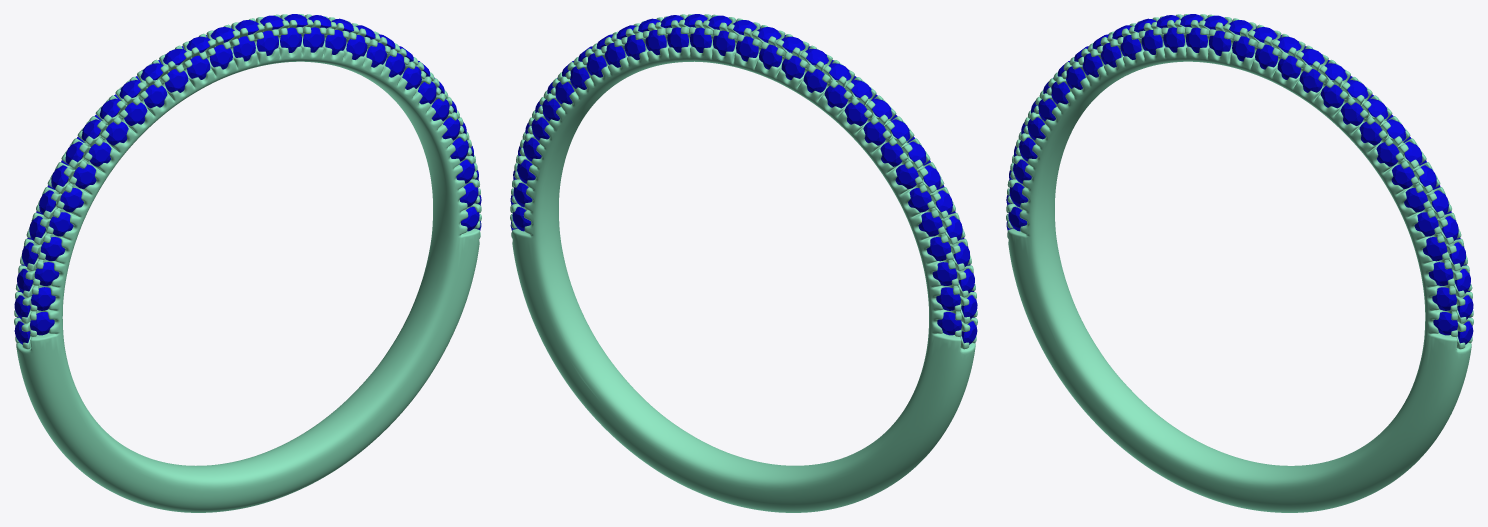
The picture shows the model from 3 angles, left to right: view 1: azimuth 30°, elevation 25°; view 2: azimuth 150°, elevation 25°; view 3: azimuth 330°, elevation 25°; orthographic projection.
Visible parts, largest first — view 1: Metal03; view 2: Metal03; view 3: Metal03.
Boxes of the visible parts, x1,y1,x2,y2 form: Metal03: (14, 14, 481, 512); Metal03: (510, 14, 977, 512); Metal03: (1006, 14, 1473, 512).
Size of the model in its own units: 20.87 by 20.9 by 1.83.
